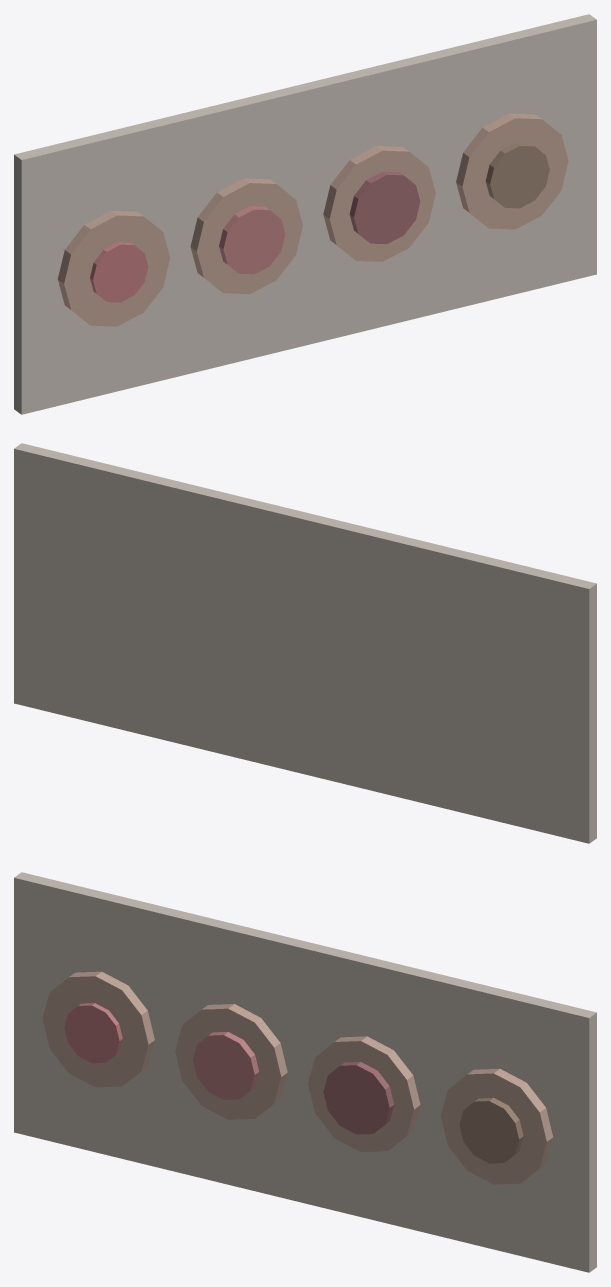
File: wound-samples-low.glb
3 renders of one model, top to bottom at view 1: azimuth 30°, elevation 25°; view 2: azimuth 150°, elevation 25°; view 3: azimuth 330°, elevation 25°, orthographic.
Parts seen in each view (by area): view 1: sample_board, skin_sample_1, skin_sample_4, skin_sample_2, skin_sample_3, visual_change_3, visual_change_2, visual_change_4, visual_change_1; view 2: sample_board; view 3: sample_board, skin_sample_1, skin_sample_4, skin_sample_2, skin_sample_3, visual_change_3, visual_change_2, visual_change_4, visual_change_1.
Boxes of the visible parts, x1,y1,x2,y2 form: sample_board: (14,14,596,414); skin_sample_1: (57,210,170,326); skin_sample_4: (456,113,568,229); skin_sample_2: (190,178,302,294); skin_sample_3: (323,146,435,261); visual_change_3: (349,171,420,244); visual_change_2: (219,206,285,274); visual_change_4: (485,142,549,208); visual_change_1: (90,242,148,302); sample_board: (14,443,596,843); sample_board: (14,872,596,1272); skin_sample_1: (42,971,154,1087); skin_sample_4: (440,1068,553,1184); skin_sample_2: (175,1004,287,1119); skin_sample_3: (308,1036,420,1152); visual_change_3: (323,1062,393,1134); visual_change_2: (193,1032,258,1099); visual_change_4: (459,1097,523,1163); visual_change_1: (64,1003,122,1063).
Bounding box in the file's own units: 5.2 × 2.2 × 0.3.
